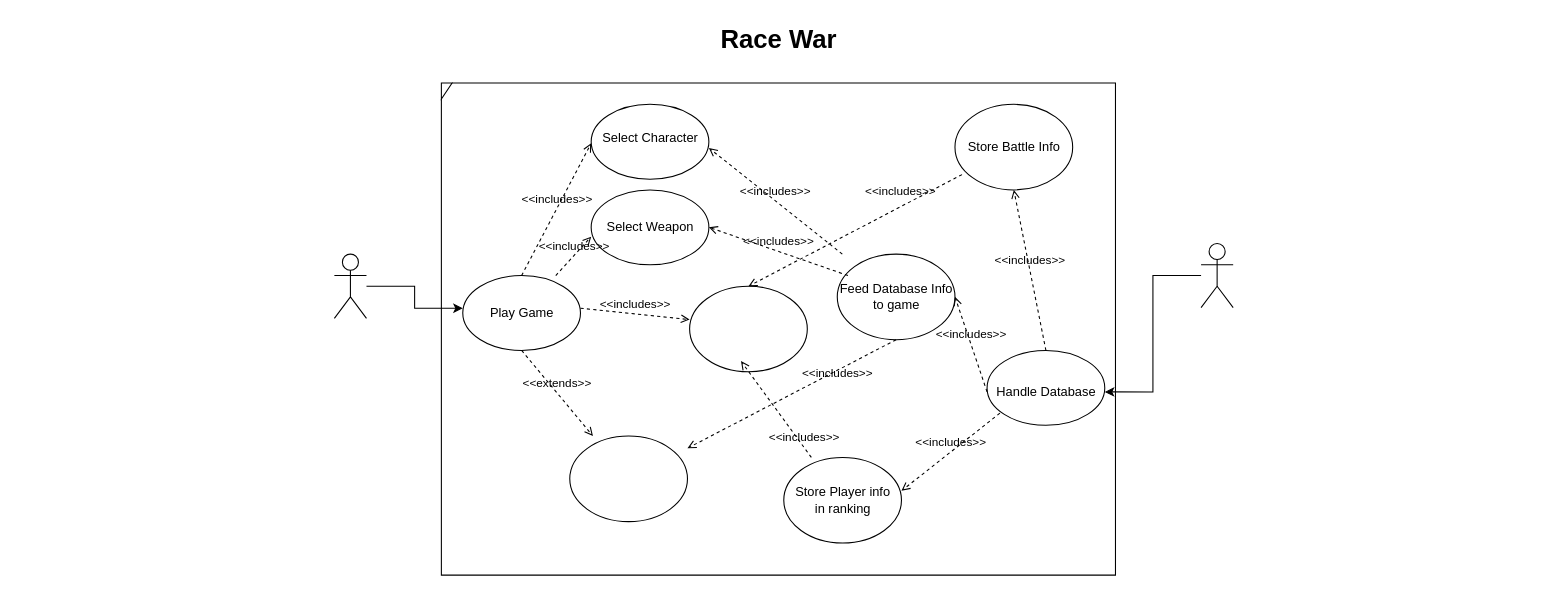
This 1556x594 diagram has some shape labels left out. The shapes that lost their labels are listed below. From the top down, each one's box as (x1, y1, x2, y2) in pixels, then its label:
(333, 253, 366, 318): User
(1200, 242, 1233, 308): System
(689, 285, 807, 372): Fight
(569, 435, 687, 522): Check Ranking
